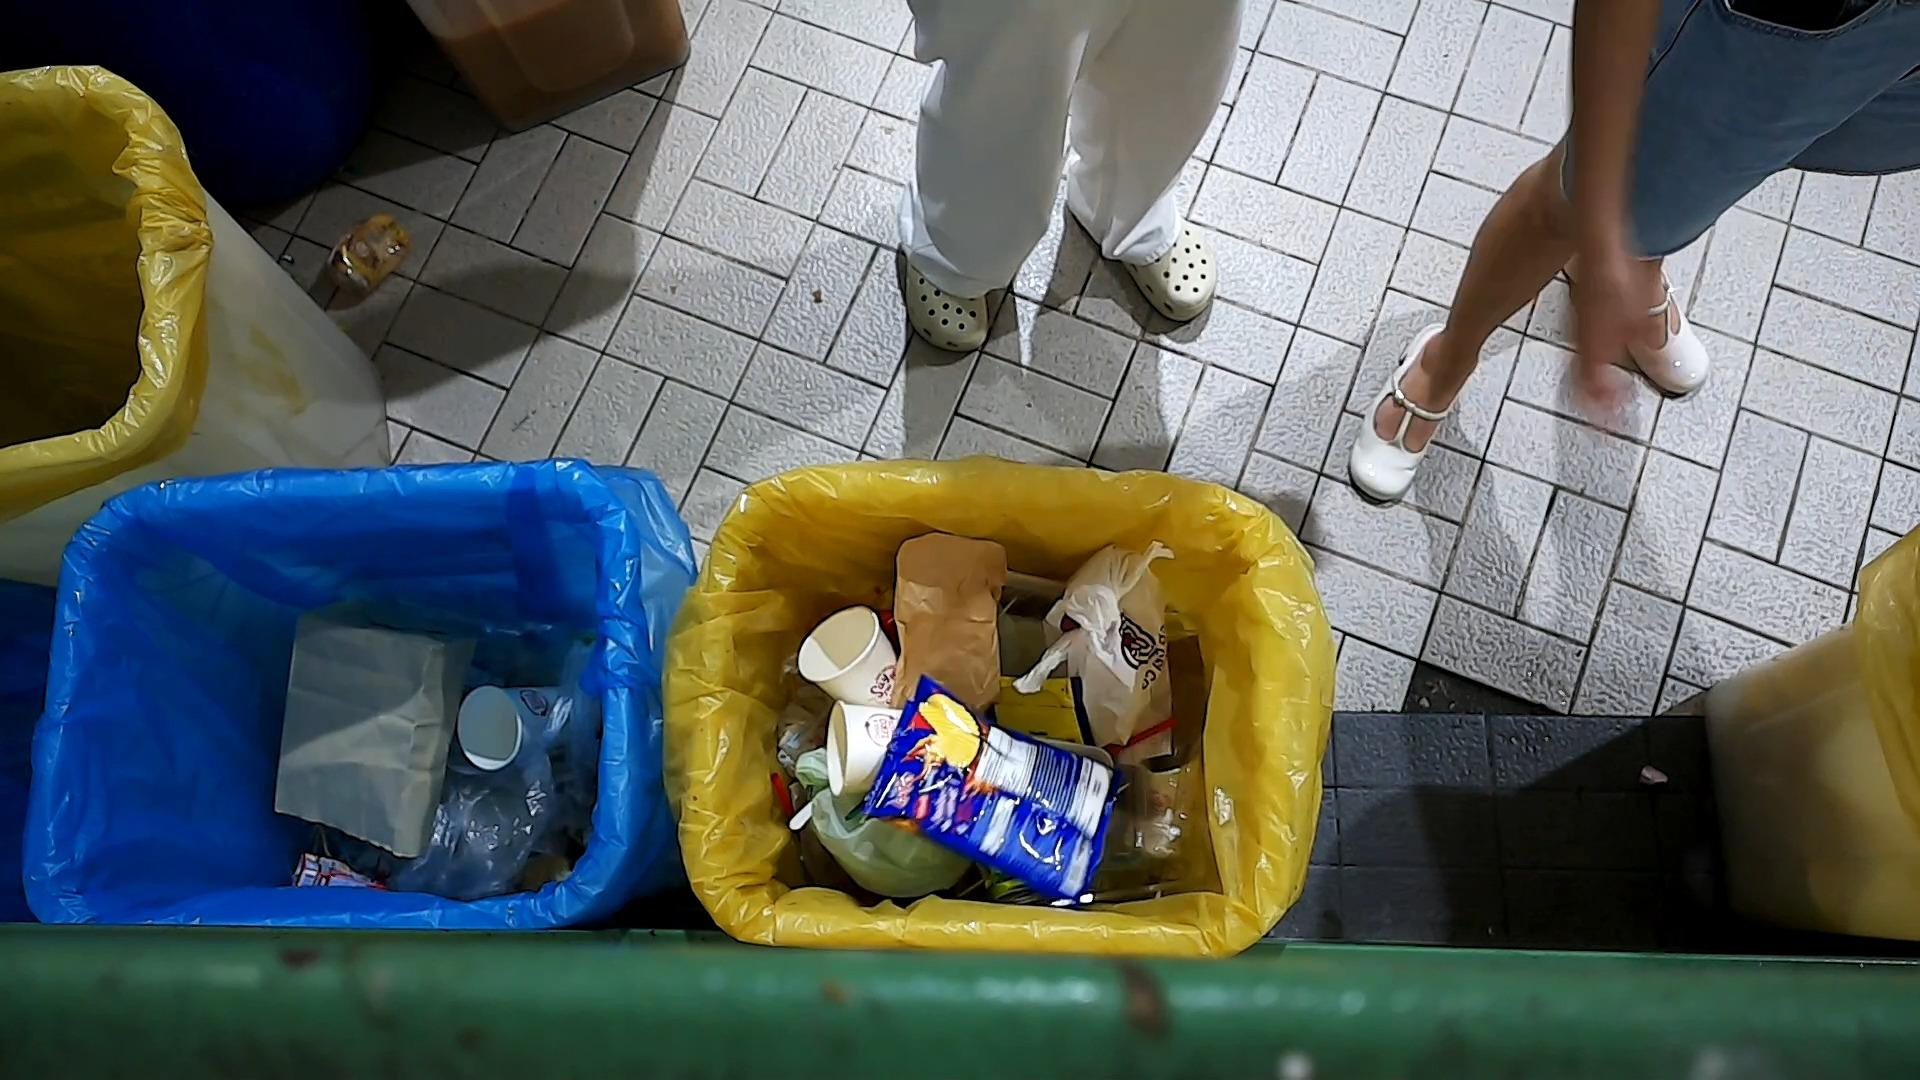filled plastic bag: (1011, 533, 1182, 764), (795, 731, 980, 902)
milk carton: (289, 843, 394, 891)
paper bag: (274, 585, 492, 858), (889, 530, 1011, 716)
plastic bag: (398, 735, 570, 905)
snack packaging: (857, 671, 1125, 914), (990, 673, 1096, 746)
straw: (1108, 715, 1182, 760)
zero waste cup: (451, 680, 575, 777), (795, 600, 899, 713), (824, 696, 905, 802)
